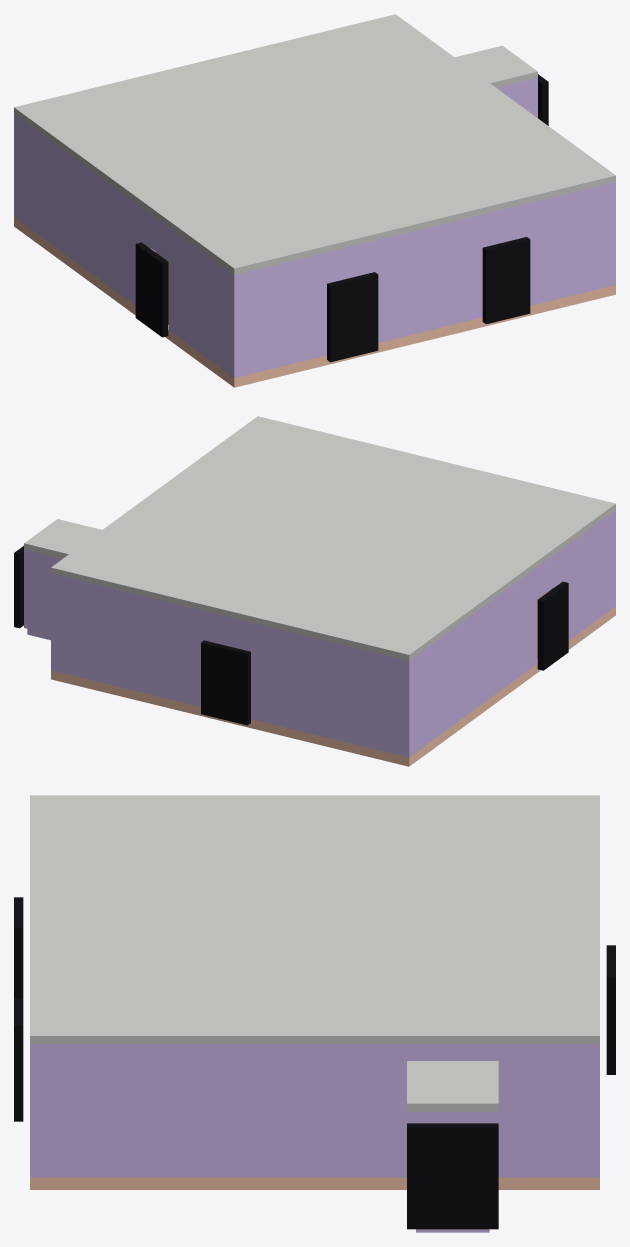
File: rdwe_repeating_room.glb
The picture shows the model from 3 angles, top to bottom: view 1: azimuth 30°, elevation 25°; view 2: azimuth 150°, elevation 25°; view 3: azimuth 270°, elevation 25°; orthographic projection. The views are drawn at different scales.
Visible parts, largest first — view 1: Room_Ceiling, Room_Wall_W_1, Room_Wall_S_3, Room_Wall_S_1, Room_Wall_S_5, Room_Wall_W_3, Room_Floor, Beyond_lift, Beyond_again_in, Beyond_library, Recess_Ceiling, Room_Wall_S_2 (+3 smaller); view 2: Room_Ceiling, Room_Wall_N_1, Room_Wall_N_3, Room_Wall_W_1, Room_Wall_W_3, Room_Floor, Beyond_again, Beyond_library, Recess_Wall_N, Recess_Ceiling, Room_Wall_N_2, Beyond_secret_ops (+1 smaller); view 3: Room_Ceiling, Room_Wall_E_3, Room_Wall_E_1, Beyond_secret_ops, Room_Floor, Recess_Ceiling, Room_Wall_N_3, Room_Wall_S_5, Beyond_again, Room_Wall_E_2, Beyond_again_in, Beyond_lift.
Boxes of the visible parts, x1,y1,x2,y2 form: Room_Ceiling: (14, 14, 615, 274); Room_Wall_W_1: (17, 117, 155, 305); Room_Wall_S_3: (365, 213, 486, 342); Room_Wall_S_1: (230, 251, 331, 377); Room_Wall_S_5: (517, 182, 615, 305); Room_Wall_W_3: (169, 227, 230, 374); Room_Floor: (14, 217, 615, 387); Beyond_lift: (327, 272, 378, 362); Beyond_again_in: (482, 237, 530, 324); Beyond_library: (135, 242, 168, 337); Recess_Ceiling: (455, 45, 537, 87); Room_Wall_S_2: (331, 243, 364, 282); Room_Ceiling: (51, 416, 615, 660); Room_Wall_N_1: (247, 621, 412, 757); Room_Wall_N_3: (51, 573, 213, 706); Room_Wall_W_1: (412, 567, 537, 754); Room_Wall_W_3: (549, 512, 612, 640); Room_Floor: (51, 606, 615, 766); Beyond_again: (201, 640, 250, 725); Beyond_library: (537, 581, 568, 670); Recess_Wall_N: (24, 549, 62, 634); Recess_Ceiling: (24, 519, 101, 558); Room_Wall_N_2: (213, 613, 246, 650); Beyond_secret_ops: (14, 546, 23, 628); Room_Ceiling: (30, 795, 599, 1044); Room_Wall_E_3: (39, 1044, 415, 1177); Room_Wall_E_1: (489, 1044, 590, 1177); Beyond_secret_ops: (407, 1123, 498, 1229); Room_Floor: (30, 1177, 599, 1189); Recess_Ceiling: (407, 1061, 498, 1111); Room_Wall_N_3: (590, 1044, 599, 1177); Room_Wall_S_5: (30, 1044, 39, 1177); Beyond_again: (606, 945, 615, 1074); Room_Wall_E_2: (416, 1044, 489, 1060); Beyond_again_in: (14, 998, 23, 1121); Beyond_lift: (14, 897, 23, 997).
Bounding box in the file's own units: 15.3 × 3.7 × 13.1.
